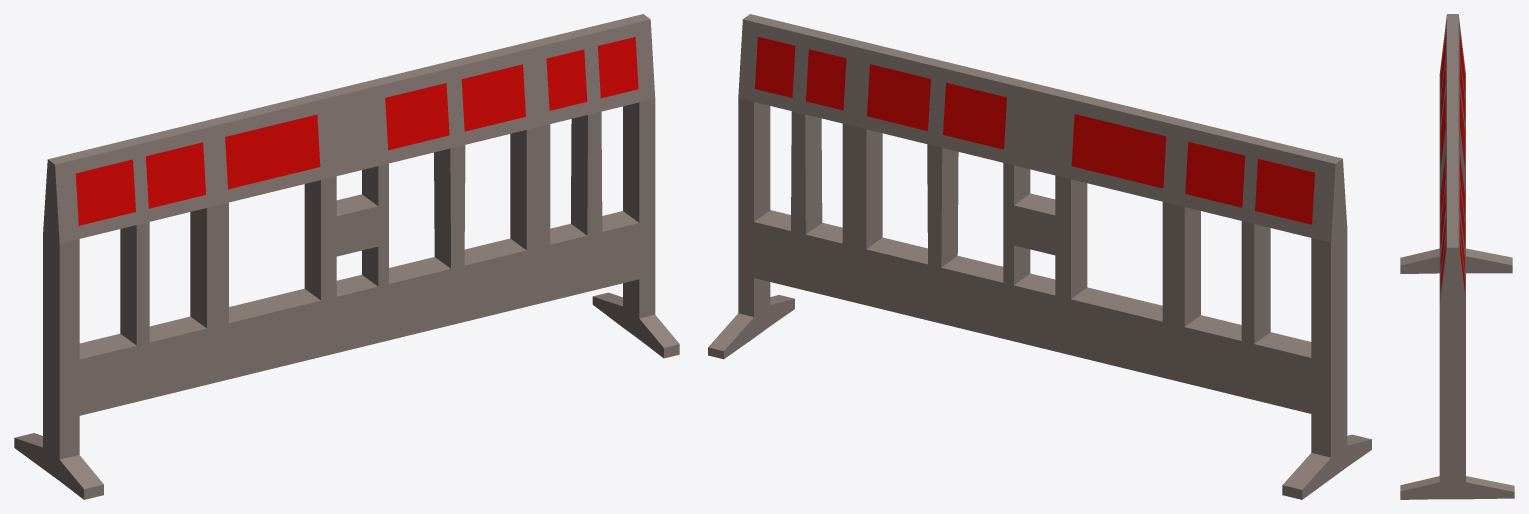
Rendered from Vallas.fbx.
3 views of the same model, side by side, from view 1: azimuth 30°, elevation 25°; view 2: azimuth 150°, elevation 25°; view 3: azimuth 270°, elevation 25° (orthographic). The views are drawn at different scales.
Parts seen in each view (by area): view 1: Cube; view 2: Cube; view 3: Cube.
Part boxes in pixels (left/top/right/bottom): Cube: left=14, top=14, right=679, bottom=499; Cube: left=708, top=14, right=1371, bottom=499; Cube: left=1400, top=14, right=1514, bottom=499.
Size of the model in its own units: 100 by 50.37 by 20.74.
